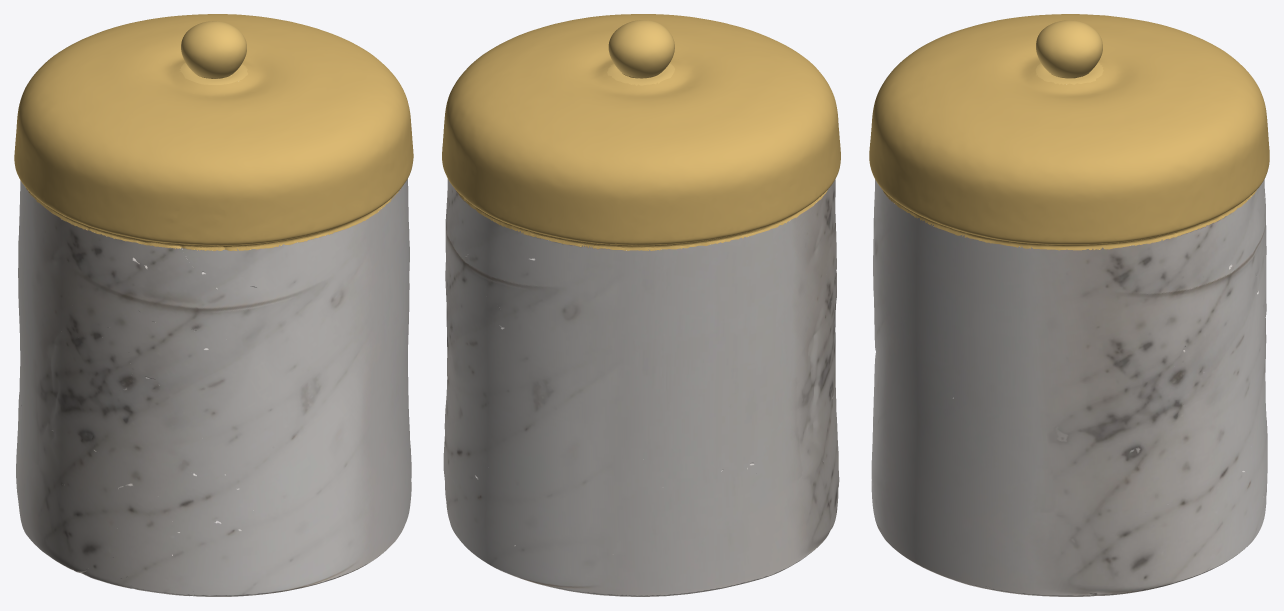
The model's file is candle-parts.glb.
3 renders of one model, left to right at view 1: azimuth 30°, elevation 25°; view 2: azimuth 150°, elevation 25°; view 3: azimuth 270°, elevation 25°, orthographic.
Visible parts, largest first — view 1: vessel, lid, knob; view 2: vessel, lid, knob; view 3: vessel, lid, knob.
Boxes of the visible parts, <box> form: vessel: <box>16,178,411,596</box>; lid: <box>14,14,413,250</box>; knob: <box>179,21,247,84</box>; vessel: <box>443,179,839,596</box>; lid: <box>442,14,840,250</box>; knob: <box>607,20,674,85</box>; vessel: <box>871,179,1267,596</box>; lid: <box>869,14,1269,250</box>; knob: <box>1035,20,1103,84</box>.
Bounding box in the file's own units: 1.37 × 1.89 × 1.38.
Materials: 3 (1 with a texture image).
